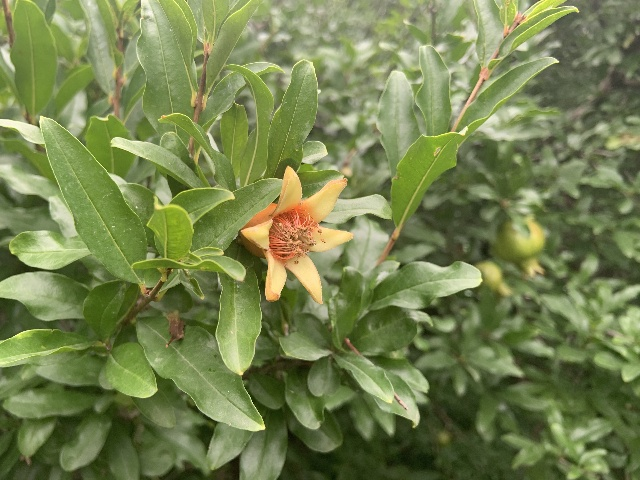flower: (239, 165, 353, 304)
mid-growth: (495, 218, 546, 280), (474, 260, 514, 296)
